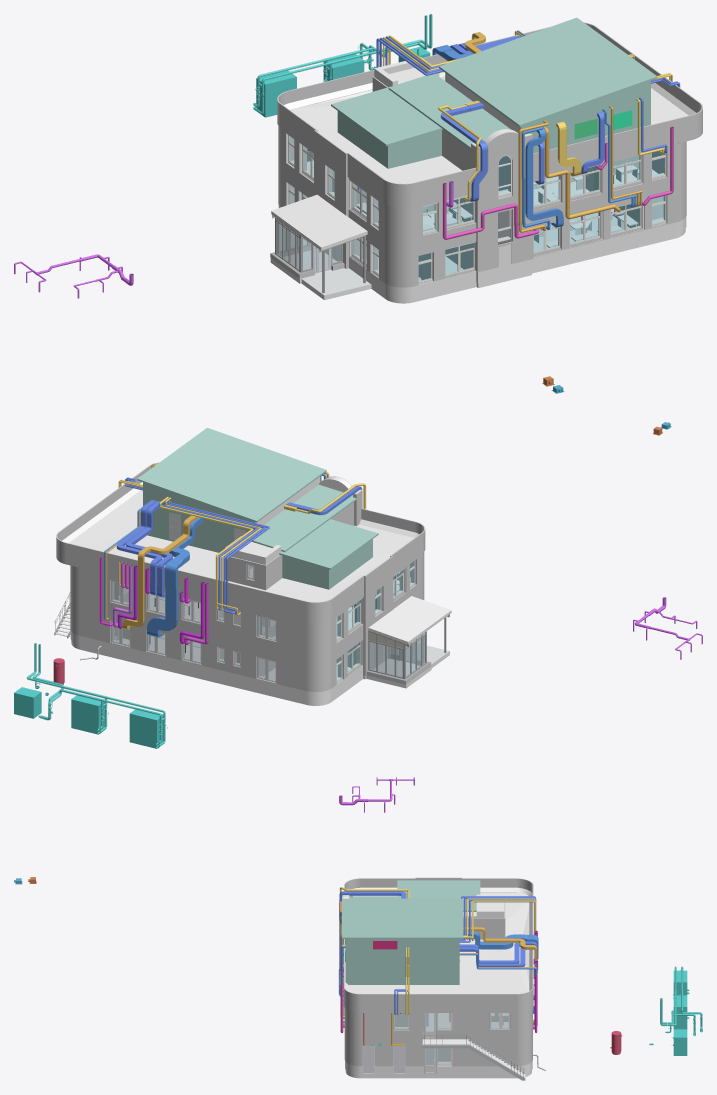
3 views of the same model, one above another, from view 1: azimuth 30°, elevation 25°; view 2: azimuth 150°, elevation 25°; view 3: azimuth 270°, elevation 25° (orthographic). The views are drawn at different scales.
Visible parts, largest first — view 1: Стены #4, Крыши #1, Стены #7, Крыши #2, Окна #1, Стены #1, Приток П16 (×2), Холодоснабжение Чиллер (×3), Приток П15 (×4), Окна #12, Вытяжка В15 (×4), Вытяжка В16 (×2) (+10 smaller); view 2: Стены #4, Крыши #1, Крыши #2, Стены #7, Приток П16 (×2), Холодоснабжение Чиллер (×3), Стены #1, Приток П15 (×4), Перекрытия #3, Вытяжка В16 (×2), Окна #8, Окна #11 (+9 smaller); view 3: Стены #4, Крыши #1, Крыши #2, Стены #1, Приток П16 (×2), Холодоснабжение Чиллер (×3), Стены #7, Вытяжка В16 (×2), Окна #8, Приток П15 (×2), Перекрытия #3, Окна #11 (+4 smaller).
Part boxes in pixels (x1,y1,x2,y2): Стены #4: (270, 22, 702, 287); Крыши #1: (331, 17, 657, 149); Стены #7: (278, 57, 686, 298); Крыши #2: (271, 67, 696, 250); Окна #1: (290, 137, 664, 280); Стены #1: (337, 73, 650, 168); Приток П16 (×2): (376, 36, 680, 191); Холодоснабжение Чиллер (×3): (253, 14, 432, 117); Приток П15 (×4): (432, 30, 636, 223); Окна #12: (288, 135, 666, 283); Вытяжка В15 (×4): (465, 31, 642, 223); Вытяжка В16 (×2): (382, 35, 672, 192); Стены #4: (56, 462, 431, 692); Крыши #1: (137, 427, 378, 569); Крыши #2: (62, 482, 451, 644); Стены #7: (70, 476, 415, 701); Приток П16 (×2): (116, 477, 362, 600); Холодоснабжение Чиллер (×3): (14, 643, 165, 748); Стены #1: (143, 475, 372, 589); Приток П15 (×4): (103, 474, 326, 632); Перекрытия #3: (71, 567, 449, 705); Вытяжка В16 (×2): (118, 463, 366, 599); Окна #8: (113, 565, 275, 680); Окна #11: (111, 563, 276, 682); Стены #4: (342, 877, 533, 1066); Крыши #1: (342, 880, 480, 938); Крыши #2: (345, 887, 532, 993); Стены #1: (345, 939, 459, 984); Приток П16 (×2): (339, 891, 537, 1010); Холодоснабжение Чиллер (×3): (649, 966, 702, 1055); Стены #7: (343, 894, 532, 1074); Вытяжка В16 (×2): (339, 887, 536, 1010); Окна #8: (395, 1013, 508, 1065); Приток П15 (×2): (339, 912, 538, 975); Перекрытия #3: (343, 1013, 531, 1078); Окна #11: (393, 1013, 509, 1073).
Size of the model in its own units: 47.52 by 11.95 by 57.74.
